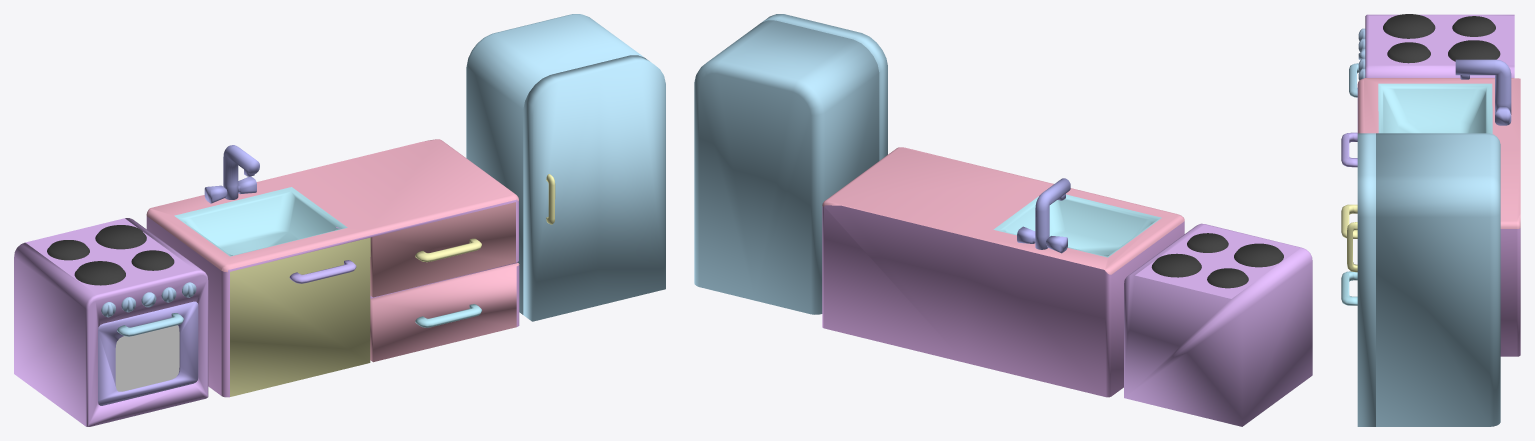
File: KEITTIÖ.fbx
3 renders of one model, left to right at view 1: azimuth 30°, elevation 25°; view 2: azimuth 150°, elevation 25°; view 3: azimuth 270°, elevation 25°, orthographic. The views are drawn at different scales.
Parts seen in each view (by area): view 1: taso, jääkaapinovi, uuni, jääkaappi, uuninluukku; view 2: taso, jääkaappi, uuni, jääkaapinovi; view 3: jääkaappi, taso, uuni, jääkaapinovi, uuninluukku.
Part boxes in pixels (box(x1,y1,x2,y2)): taso: box(146, 139, 519, 397); jääkaapinovi: box(523, 55, 665, 321); uuni: box(14, 218, 208, 426); jääkaappi: box(466, 14, 644, 314); uuninluukku: box(98, 301, 198, 405); taso: box(822, 147, 1184, 397); jääkaappi: box(694, 20, 879, 314); uuni: box(1124, 223, 1312, 426); jääkaapinovi: box(761, 14, 887, 160); jääkaappi: box(1376, 133, 1500, 426); taso: box(1341, 59, 1520, 356); uuni: box(1358, 14, 1514, 80); jääkaapinovi: box(1347, 133, 1375, 426); uuninluukku: box(1349, 63, 1359, 97).
Size of the model in its own units: 779 by 305 by 206.
